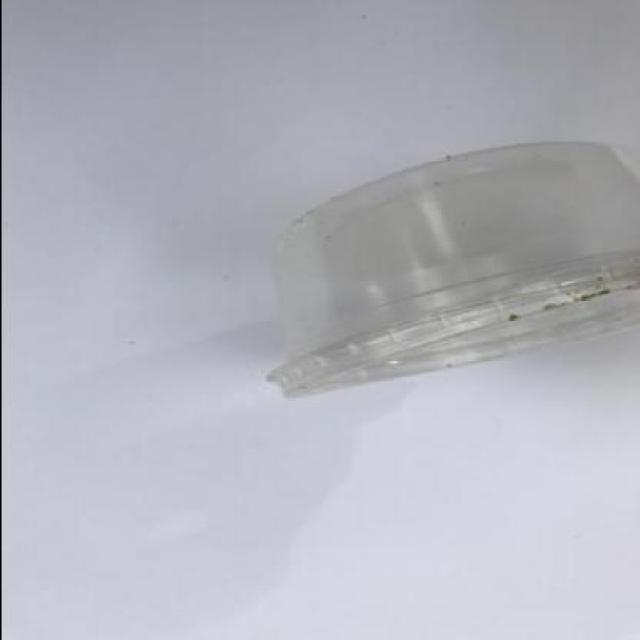PLASTIC: (258, 144, 638, 399)
